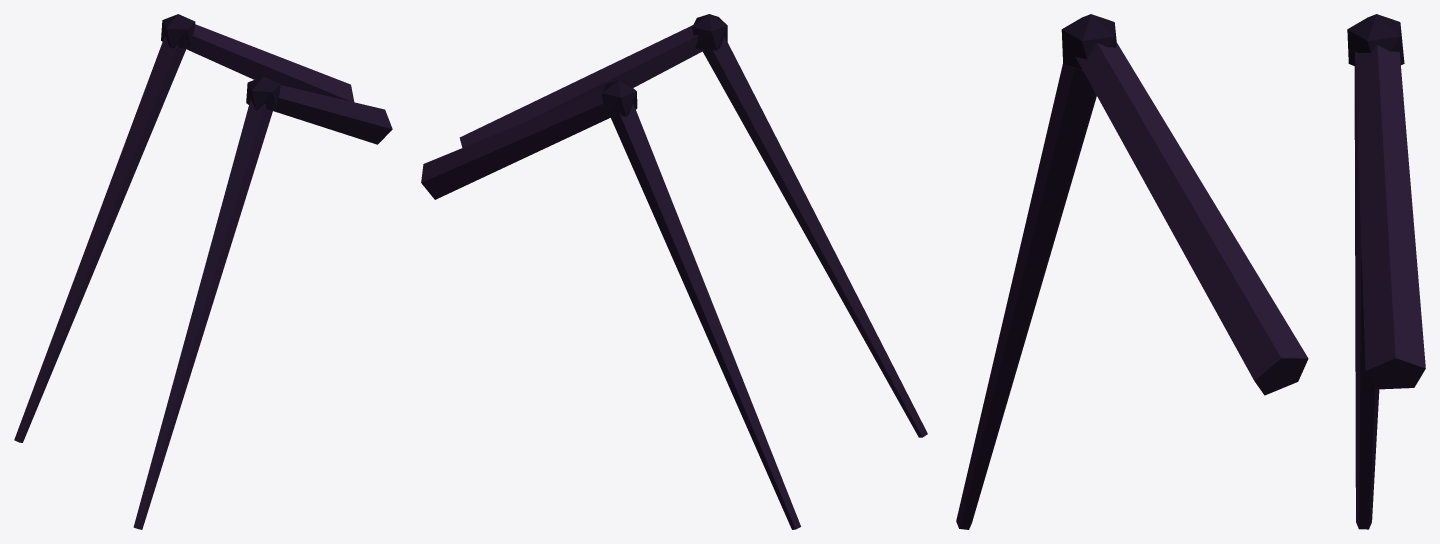
File: spider_4_leg_fr.glb
The picture shows the model from 3 angles, left to right: view 1: azimuth 30°, elevation 25°; view 2: azimuth 150°, elevation 25°; view 3: azimuth 270°, elevation 25°; orthographic projection. The views are drawn at different scales.
Parts seen in each view (by area): view 1: spider_4_leg_fr; view 2: spider_4_leg_fr; view 3: spider_4_leg_fr.
Boxes of the visible parts, bbox=[...] form: spider_4_leg_fr: bbox=[14, 14, 392, 529]; spider_4_leg_fr: bbox=[421, 14, 927, 529]; spider_4_leg_fr: bbox=[956, 14, 1425, 529].
Size of the model in its own units: 0.6335 by 0.6755 by 0.444.
